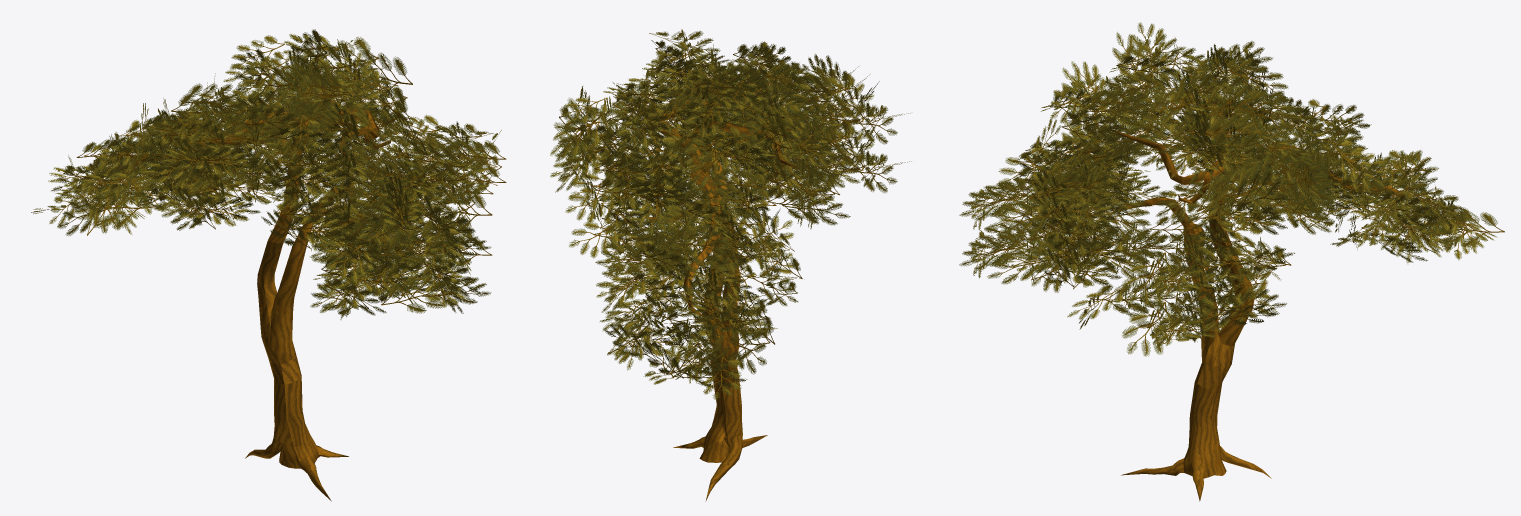
The model's file is fin_tree.fbx.
3 renders of one model, left to right at view 1: azimuth 30°, elevation 25°; view 2: azimuth 150°, elevation 25°; view 3: azimuth 270°, elevation 25°, orthographic. The views are drawn at different scales.
Visible parts, largest first — view 1: Mesh_0051, Mesh_0051.001, Mesh_0053; view 2: Mesh_0051, Mesh_0051.001, Mesh_0053; view 3: Mesh_0051, Mesh_0051.001, Mesh_0053.
Boxes of the visible parts, x1=… form: Mesh_0051: x1=48, y1=29, x2=506, y2=284; Mesh_0051.001: x1=31, y1=58, x2=506, y2=319; Mesh_0053: x1=124, y1=107, x2=390, y2=501; Mesh_0051: x1=550, y1=29, x2=910, y2=370; Mesh_0051.001: x1=550, y1=46, x2=911, y2=399; Mesh_0053: x1=628, y1=79, x2=798, y2=501; Mesh_0051: x1=959, y1=22, x2=1504, y2=306; Mesh_0051.001: x1=959, y1=74, x2=1477, y2=356; Mesh_0053: x1=1094, y1=97, x2=1405, y2=501.
Bounding box in the file's own units: 344 × 463 × 528.
2 materials, 2 textured.
